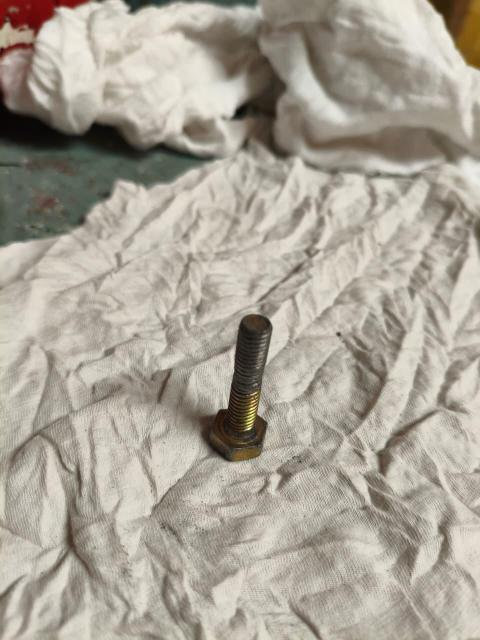Metal: (208, 313, 272, 457)
